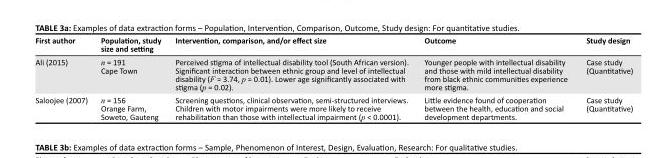table: (34, 34, 632, 121)
table column: (167, 34, 415, 121), (415, 34, 576, 121), (93, 34, 167, 121), (34, 34, 93, 121), (576, 34, 632, 121)
table column header: (34, 34, 632, 54)
table row: (34, 54, 632, 92), (34, 92, 632, 121), (34, 34, 632, 54)
